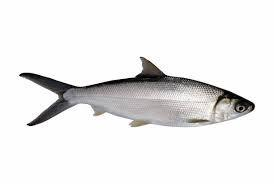Bangus: (18, 56, 256, 130)
